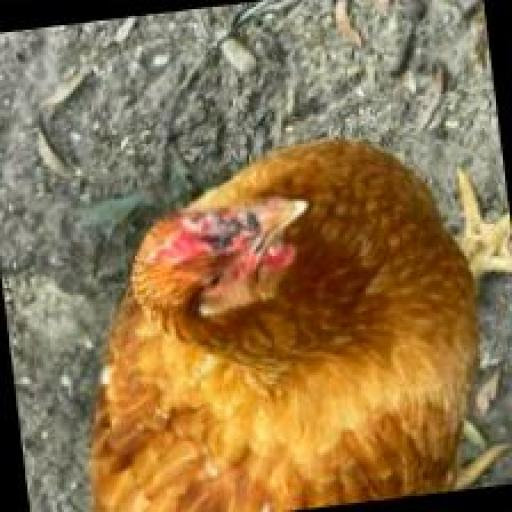disease: (172, 198, 274, 262)
